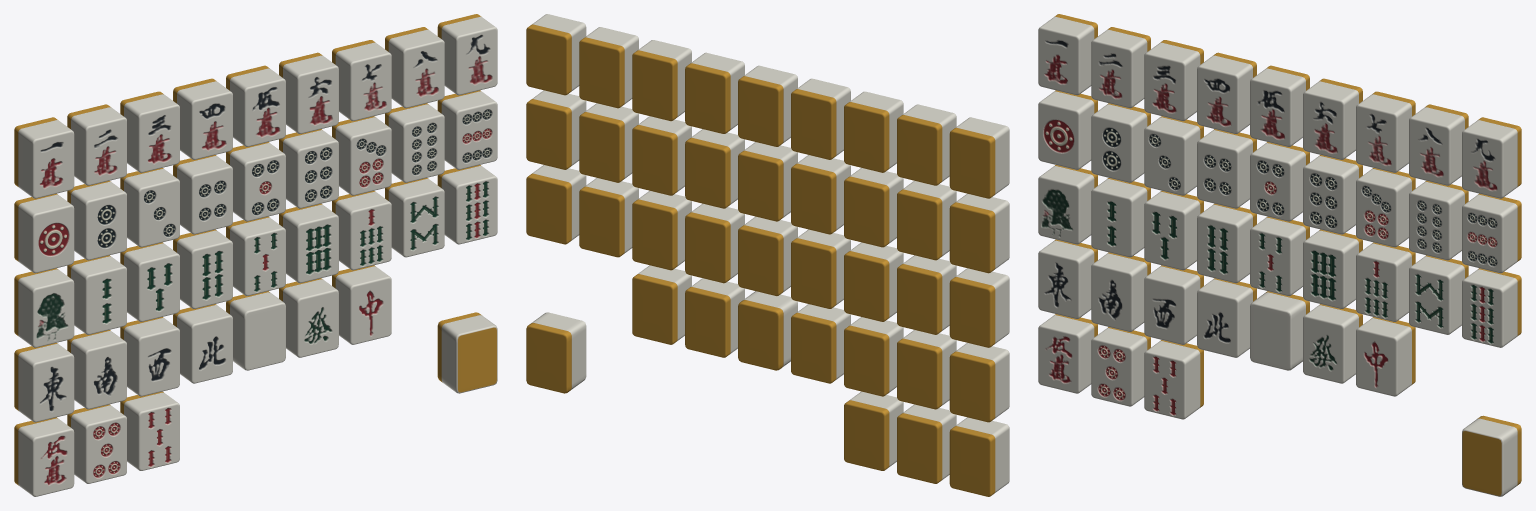
Rendered from tiles.glb.
The picture shows the model from 3 angles, left to right: view 1: azimuth 30°, elevation 25°; view 2: azimuth 150°, elevation 25°; view 3: azimuth 330°, elevation 25°; orthographic projection.
Parts seen in each view (by area): view 1: m1, back, p1, z1, s1, m0, m9, m8, m6, m2, m5, m7 (+26 smaller); view 2: m1, back, p1, z1, s1, m0, m9, m8, m6, m2, m5, m7 (+26 smaller); view 3: m9, back, p9, s9, s0, z7, m2, m1, m8, m3, m6, m4 (+26 smaller).
Boxes of the visible parts, x1,y1,x2,y2 form: m1: (14, 117, 74, 198); back: (437, 312, 497, 393); p1: (14, 193, 74, 273); z1: (14, 343, 74, 422); s1: (14, 268, 74, 347); m0: (14, 417, 74, 496); m9: (437, 14, 497, 95); m8: (385, 27, 444, 108); m6: (279, 52, 338, 133); m2: (67, 104, 126, 185); m5: (226, 65, 285, 146); m7: (332, 40, 391, 121); m1: (949, 117, 1009, 198); back: (526, 312, 586, 393); p1: (949, 193, 1009, 273); z1: (949, 343, 1009, 422); s1: (949, 268, 1009, 347); m0: (949, 417, 1009, 496); m9: (526, 14, 586, 95); m8: (579, 27, 638, 108); m6: (685, 52, 744, 133); m2: (897, 104, 956, 185); m5: (738, 65, 797, 146); m7: (632, 40, 691, 121); m9: (1462, 117, 1521, 198); back: (1462, 415, 1521, 496); p9: (1462, 193, 1521, 273); s9: (1462, 268, 1521, 347); s0: (1144, 340, 1203, 419); z7: (1356, 317, 1415, 396); m2: (1091, 27, 1150, 108); m1: (1038, 14, 1097, 95); m8: (1409, 104, 1468, 185); m3: (1144, 40, 1203, 121); m6: (1303, 78, 1362, 159); m4: (1197, 52, 1256, 133).
Size of the model in its own units: 0.2285 by 0.168 by 0.0165.
